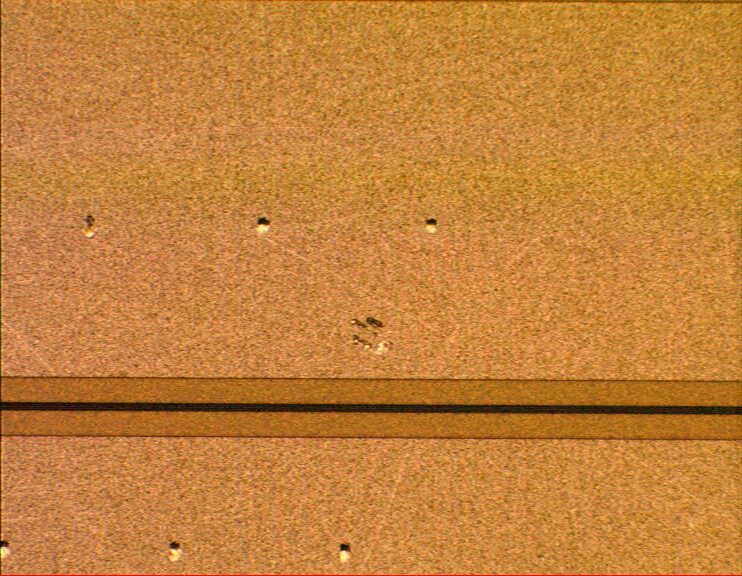SCRATCH: (1, 227, 473, 576)
